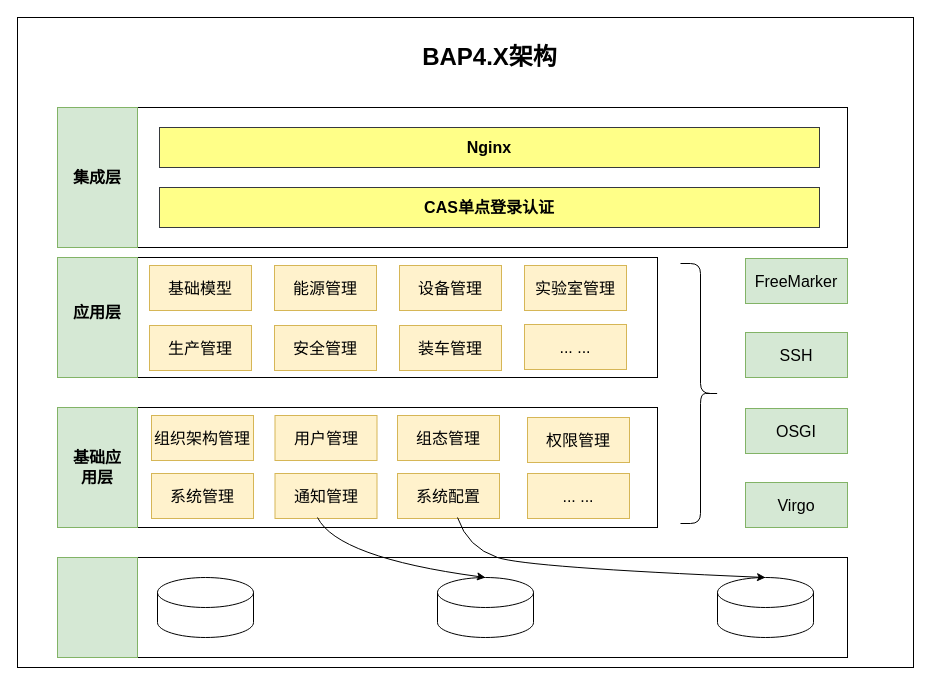
Some shapes in this 931 by 685 pixel diagram are drawn without their labels. Here are the shapes that lost their labels. From the top down, the centre of each, then its label:
At (97,607): "中间件/存储层".
At (205,607): "关系库".
At (485,607): "ActiveMQ".
At (765,607): "Consul".
